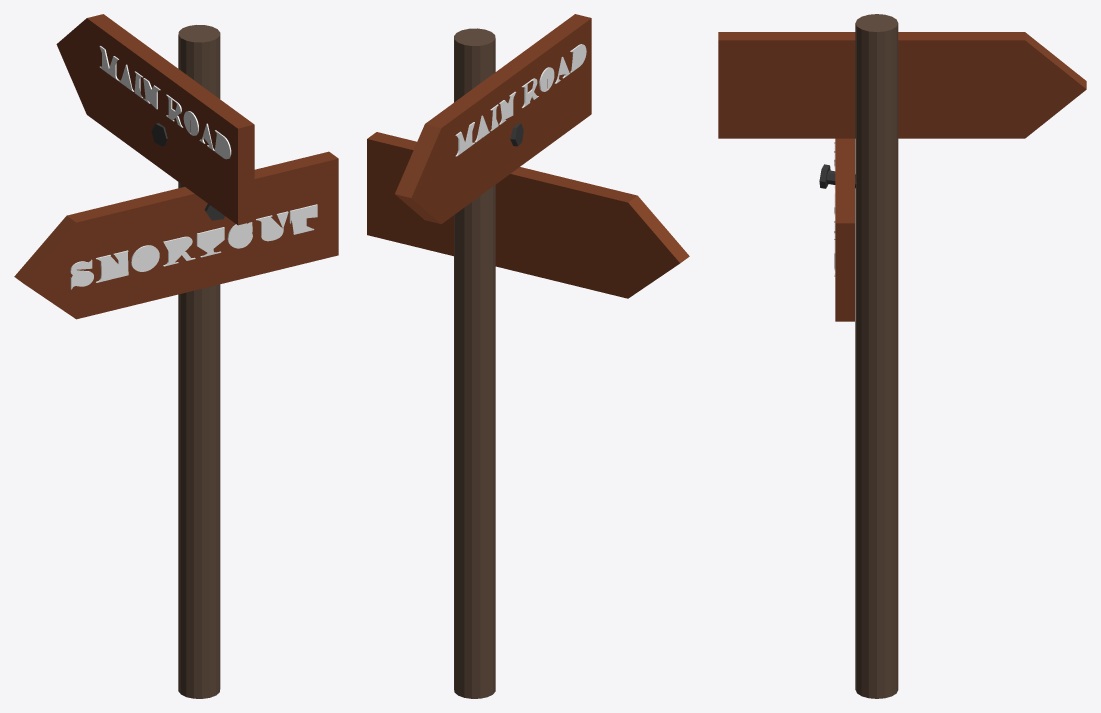
Rendered from direction_sign.fbx.
3 views of the same model, side by side, from view 1: azimuth 30°, elevation 25°; view 2: azimuth 150°, elevation 25°; view 3: azimuth 270°, elevation 25° (orthographic). The views are drawn at different scales.
Visible parts, largest first — view 1: Text, Cube.001, Circle; view 2: Circle, Text, Cube.001; view 3: Cube.001, Circle, Text.
Boxes of the visible parts, box(x1,y1,x2,y2) form: Text: box(14, 151, 338, 319); Cube.001: box(56, 14, 254, 225); Circle: box(178, 25, 220, 698); Circle: box(454, 28, 495, 698); Text: box(367, 132, 689, 298); Cube.001: box(395, 14, 591, 223); Cube.001: box(718, 32, 1086, 138); Circle: box(855, 14, 898, 698); Text: box(819, 138, 856, 321).
Bounding box in the file's own units: 301 × 600 × 301.
